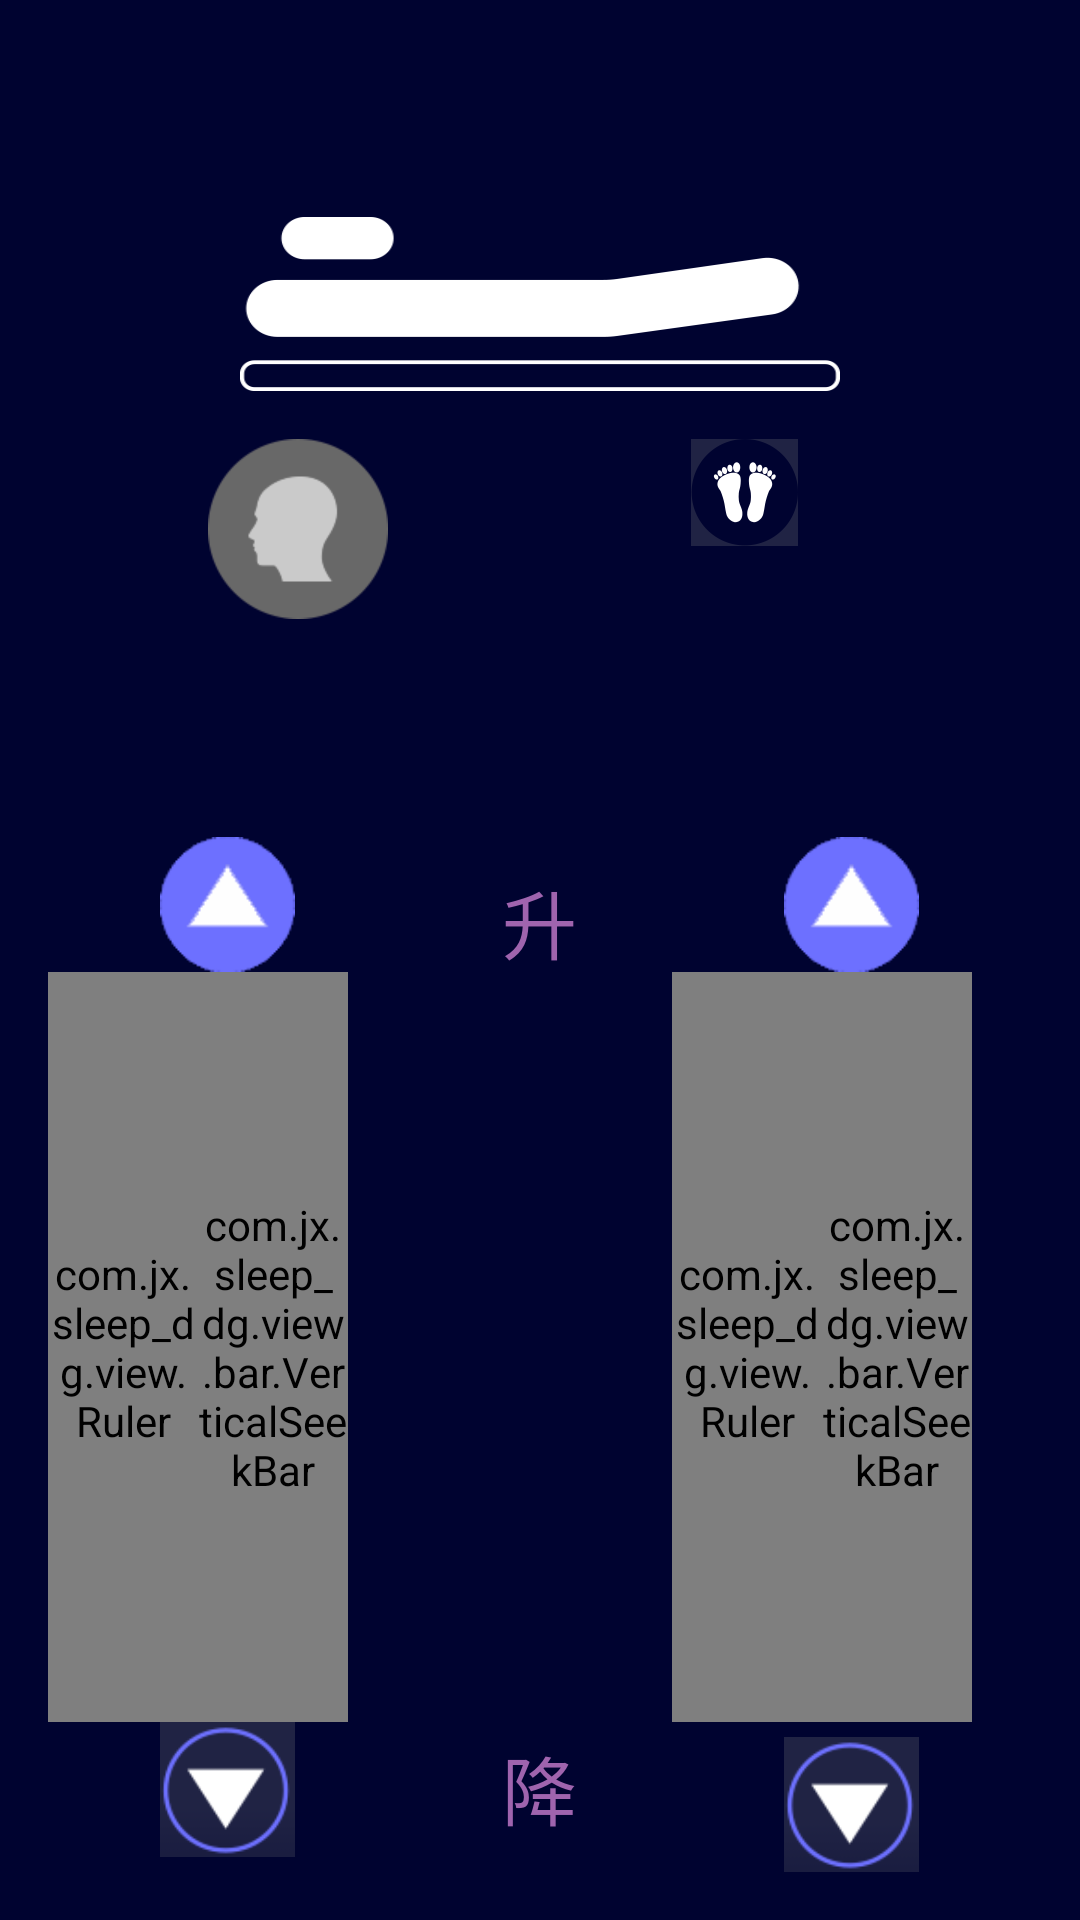

Locate icon controls on the screen. Image size 1080*1920, boxes as (x1, y1, x2, y2).
add: (160, 837, 295, 972), (784, 837, 919, 972)
foot: (691, 439, 798, 546)
head: (208, 439, 388, 619)
reduce: (160, 1722, 295, 1857), (784, 1737, 919, 1872)
